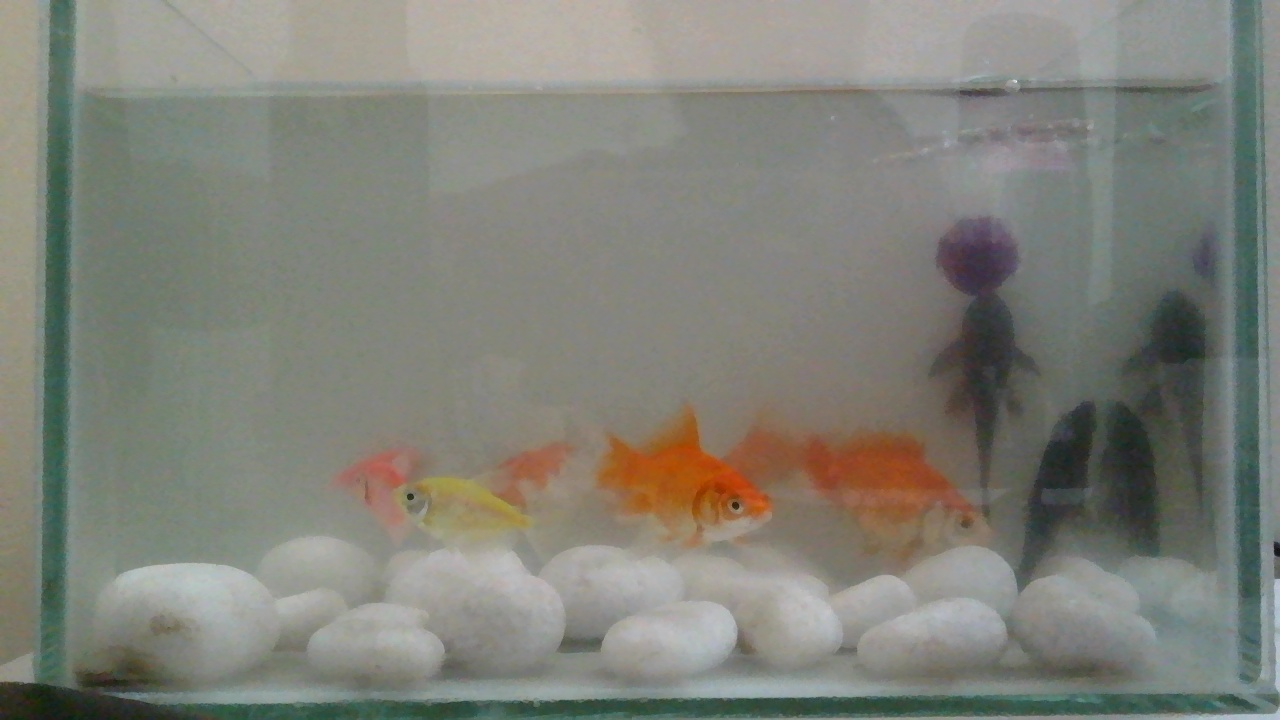fish: (360, 441, 569, 679), (597, 395, 774, 548), (329, 437, 430, 552)
